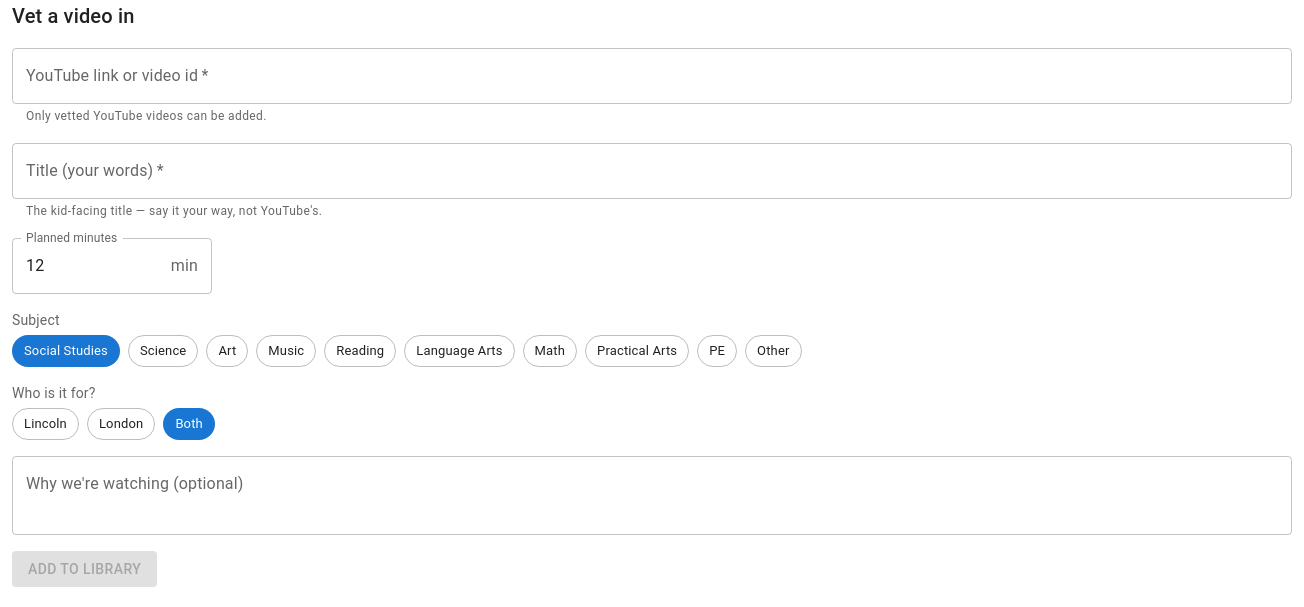
Test: WatchVetInForm › rejects a fractional minutes value that would round to 0
This screenshot has width=1304, height=607.
Type "dQw4w9WgXcQ" into the field labelled "YouTube link or video id *" at (652, 76), box [12,48,1292,104]
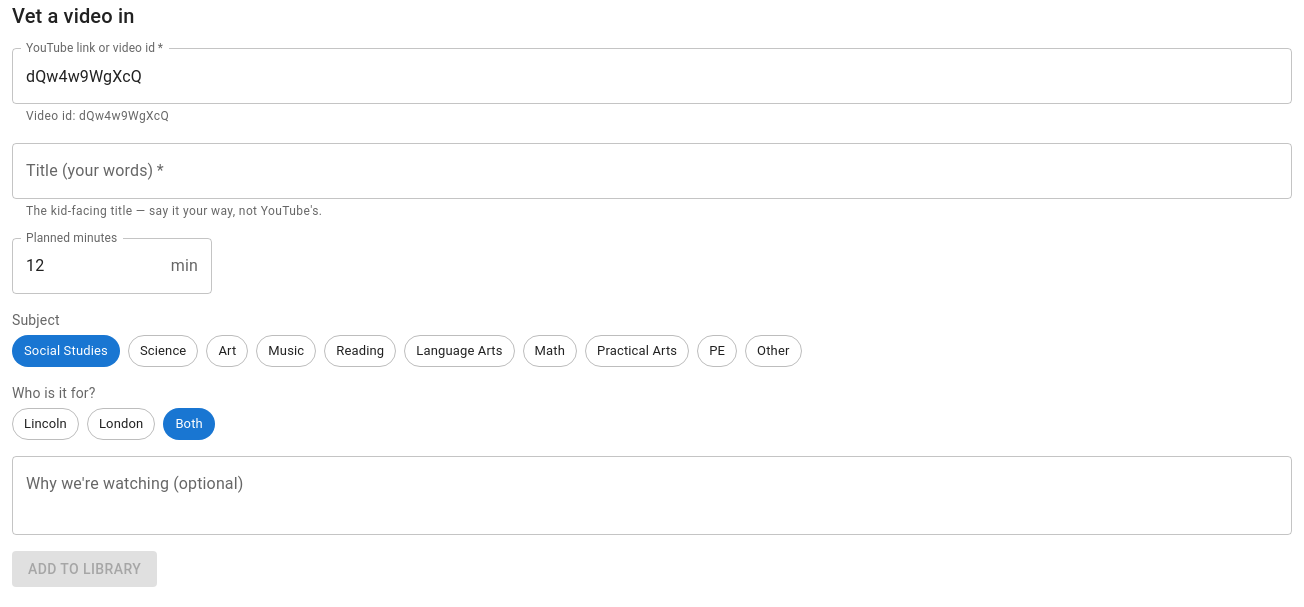
Type "Castles" into the field labelled "Title (your words) *" at (652, 171), box [12,143,1292,199]
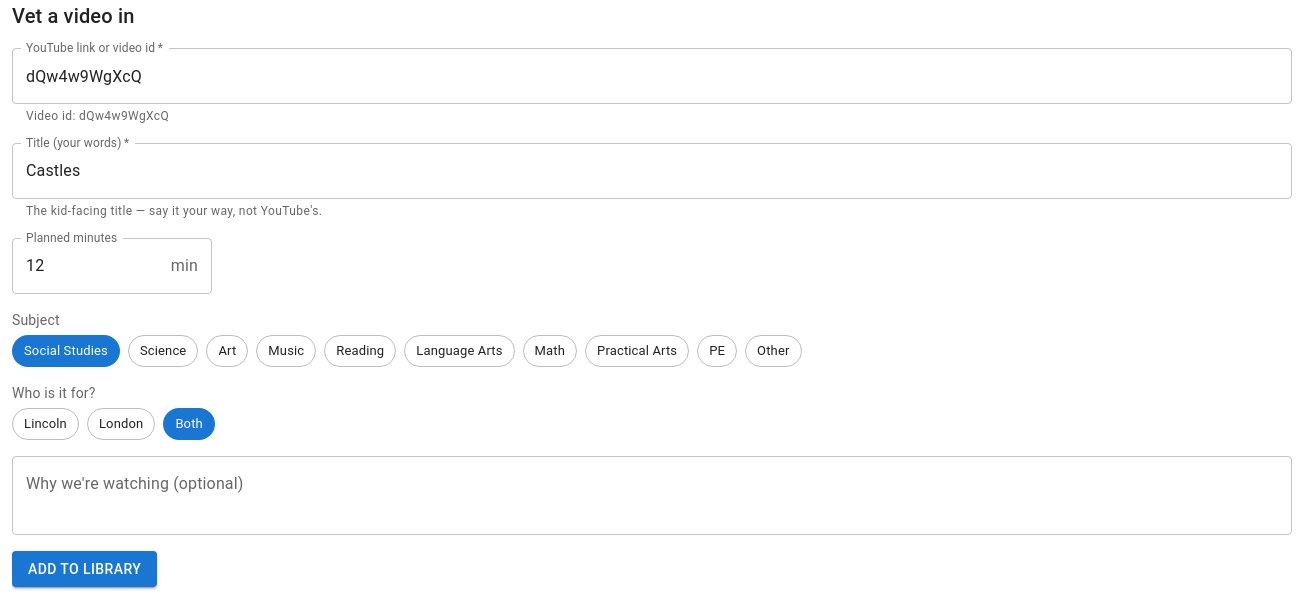
Replace the text in the number field labelled "Planned minutes" with "0.1" at (87, 266), box [12,238,163,294]
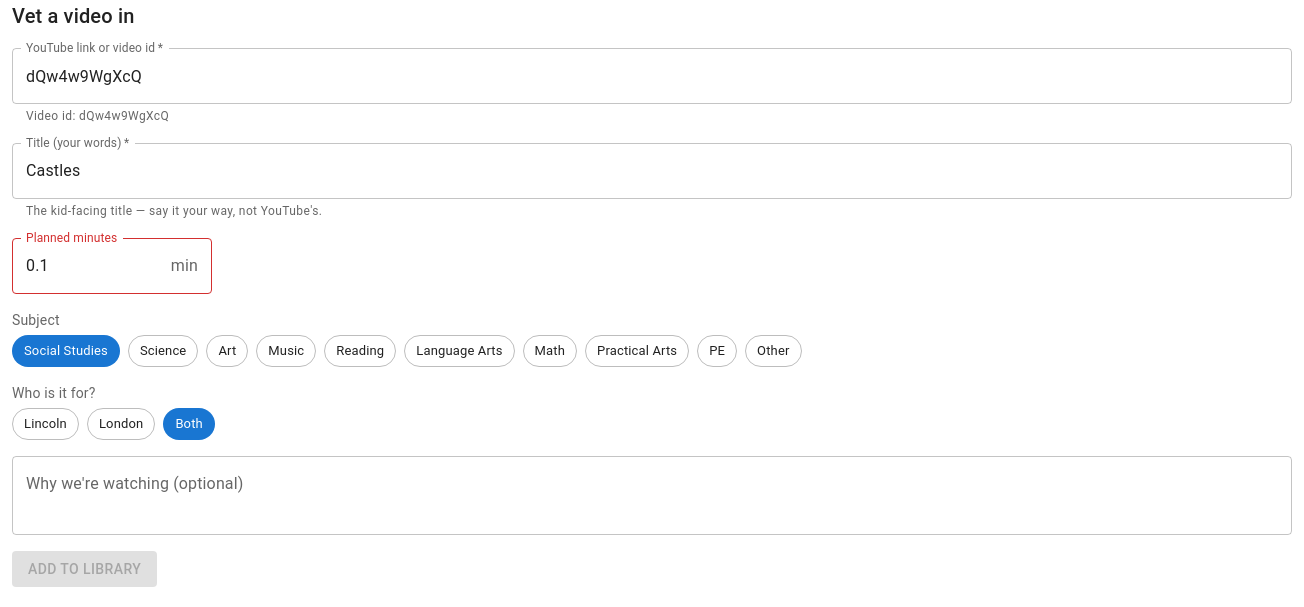
Now the button "Add to library" is disabled, box [12,551,157,587]
Replace the text in the number field labelled "Planned minutes" with "12" at (87, 266), box [12,238,163,294]
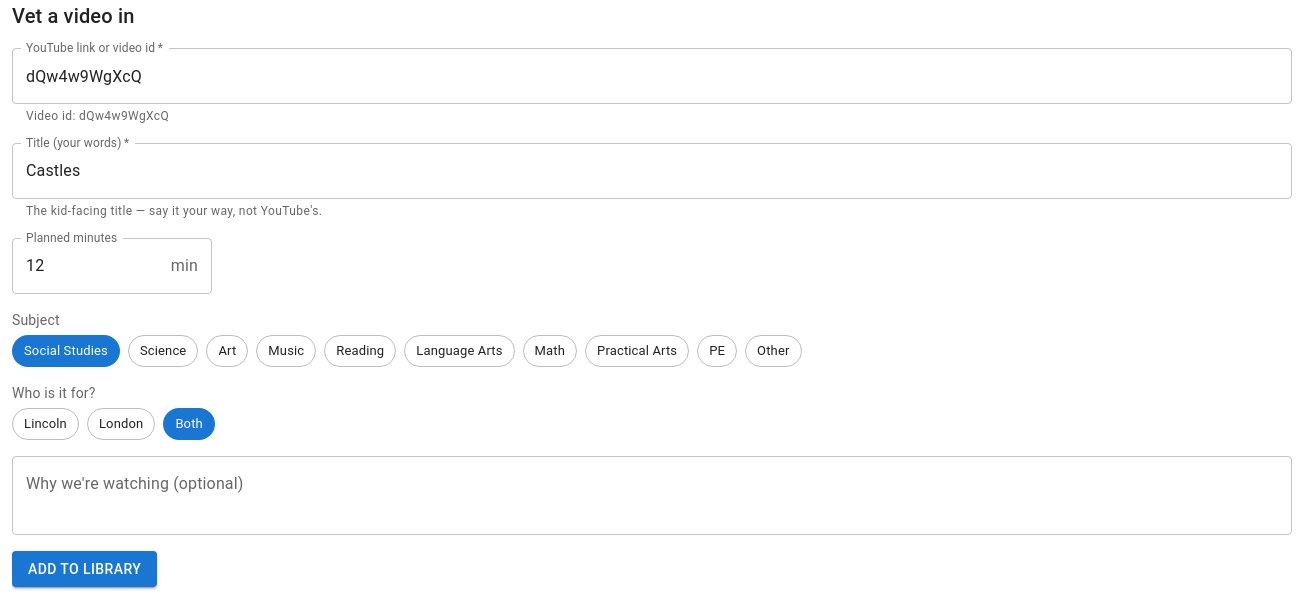
Now the button "Add to library" is enabled, box [12,551,157,587]
